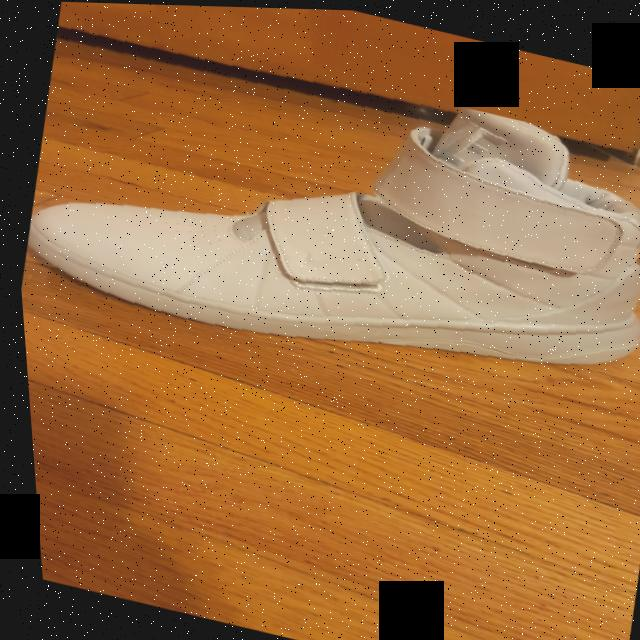shoe: (1, 9, 640, 444)
